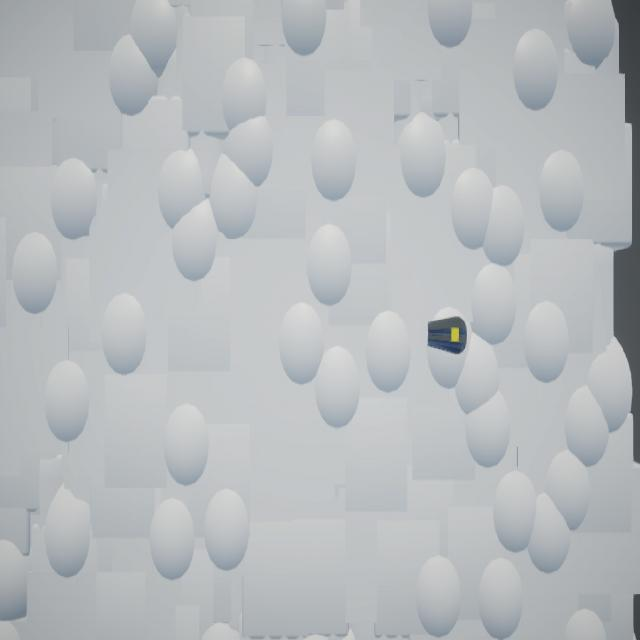handle_folk: (428, 317, 468, 355)
